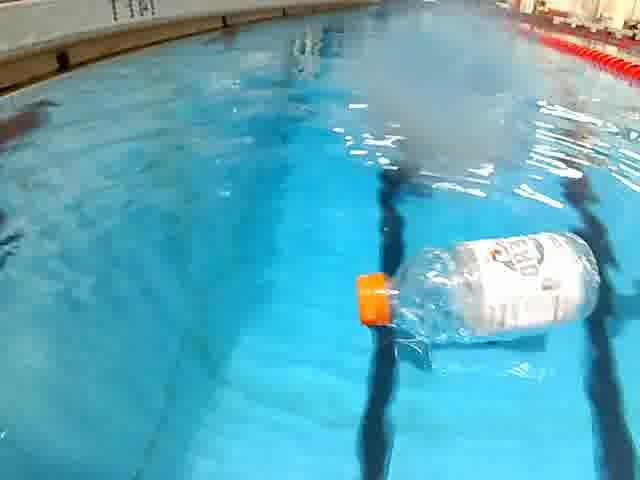Bottle: (347, 222, 612, 346)
